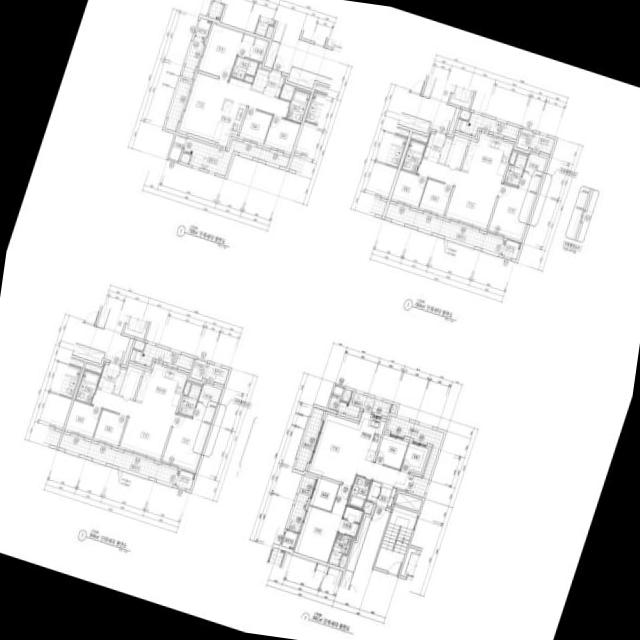background: (0, 0, 640, 640)
space_balconi: (59, 433, 179, 485), (384, 203, 505, 254), (387, 416, 444, 497), (183, 138, 289, 176), (164, 36, 204, 131), (294, 407, 324, 472), (129, 343, 194, 370), (455, 113, 520, 140), (287, 475, 314, 532), (337, 391, 391, 418), (204, 364, 229, 385), (530, 133, 555, 154)
space_bedroom: (294, 484, 351, 562), (162, 414, 209, 471), (488, 183, 535, 240), (198, 24, 243, 79), (391, 169, 427, 207), (65, 400, 101, 437), (264, 116, 300, 153), (238, 107, 272, 143), (93, 409, 126, 445), (419, 179, 452, 215), (375, 434, 408, 469), (400, 442, 428, 473)
space_dressroom: (518, 153, 547, 192), (193, 383, 221, 423), (237, 34, 268, 62), (338, 506, 362, 537)
space_front: (97, 362, 119, 393), (423, 132, 445, 163), (263, 70, 285, 97), (376, 482, 396, 507)
space_kitchen: (135, 364, 187, 413), (461, 133, 513, 182), (349, 411, 385, 462), (211, 98, 246, 145)
space_living_room: (308, 413, 410, 490), (179, 72, 290, 140), (417, 158, 501, 229), (91, 389, 175, 459)
space_multipurpose_space: (310, 477, 339, 511)
space_other: (345, 516, 371, 572), (119, 365, 142, 399), (445, 135, 468, 169), (395, 492, 422, 511), (169, 135, 186, 161), (251, 68, 269, 92), (327, 386, 343, 411), (190, 359, 207, 381), (516, 129, 533, 150), (113, 368, 126, 394), (439, 138, 452, 164), (122, 338, 134, 365), (366, 481, 381, 502), (448, 108, 459, 134), (279, 84, 294, 101), (84, 363, 102, 373), (410, 133, 428, 143), (133, 340, 145, 351), (459, 109, 470, 120), (363, 501, 373, 513), (342, 389, 351, 402), (180, 153, 190, 164), (183, 382, 191, 395), (338, 555, 346, 568), (509, 151, 517, 164), (244, 75, 253, 83), (390, 404, 396, 413)
space_outdoor_room: (501, 239, 521, 259), (176, 470, 195, 490), (195, 18, 211, 38), (281, 530, 297, 549)
space_staircase: (374, 506, 417, 574)
space_toilet: (75, 370, 100, 404), (401, 139, 425, 173), (286, 89, 310, 123), (177, 384, 201, 417), (328, 533, 352, 566), (347, 476, 371, 509), (503, 153, 527, 186), (230, 55, 258, 80)
